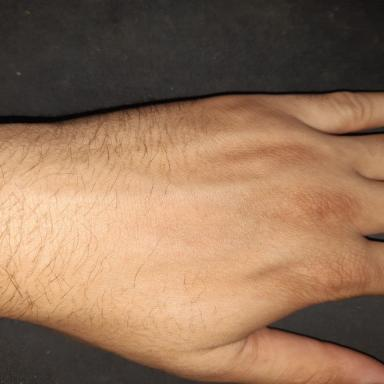normal skin: (1, 92, 383, 384)
